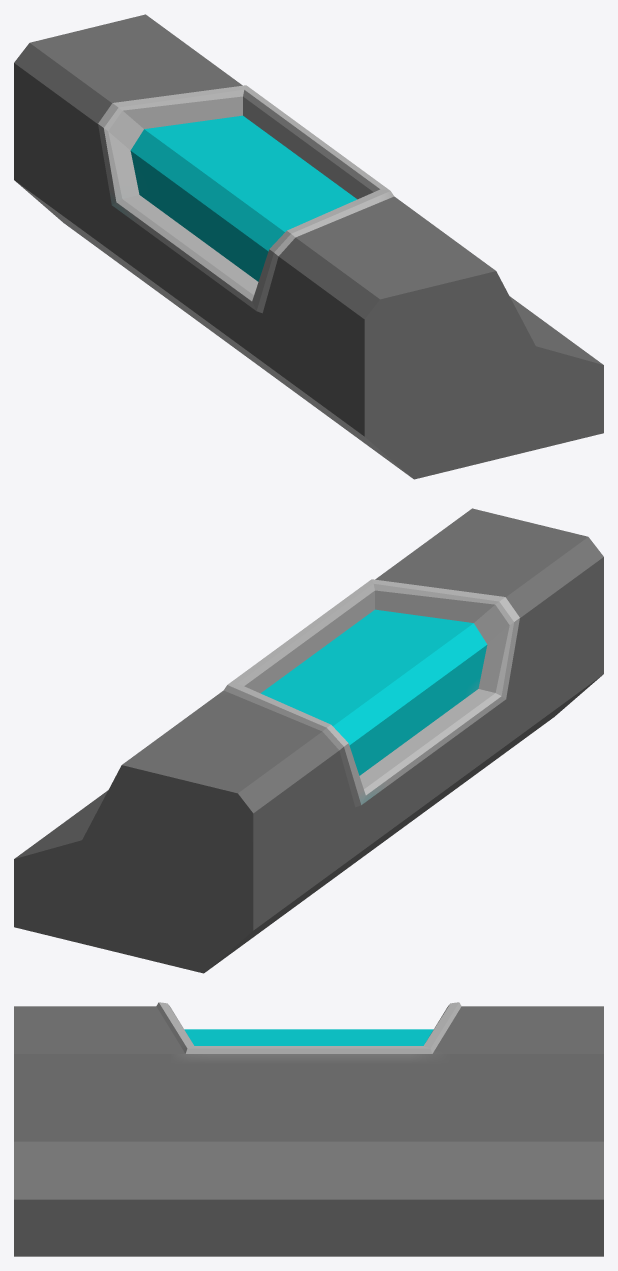
3 renders of one model, top to bottom at view 1: azimuth 30°, elevation 25°; view 2: azimuth 150°, elevation 25°; view 3: azimuth 270°, elevation 25°, orthographic. The views are drawn at different scales.
Parts seen in each view (by area): view 1: SM_B_Part25; view 2: SM_B_Part25; view 3: SM_B_Part25.
Part boxes in pixels (x1,y1,x2,y2): SM_B_Part25: (14,14,603,479); SM_B_Part25: (14,508,603,973); SM_B_Part25: (14,1002,603,1256).
Size of the model in its own units: 98 by 243 by 74.21.
Materials: 1 (1 with a texture image).
